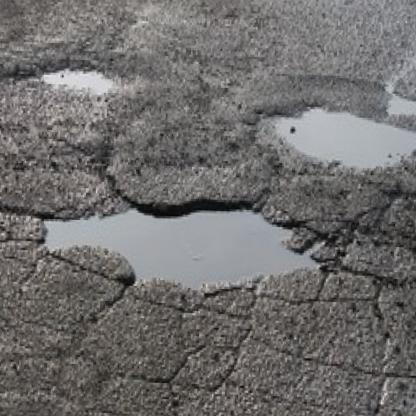pothole: (31, 193, 323, 299)
